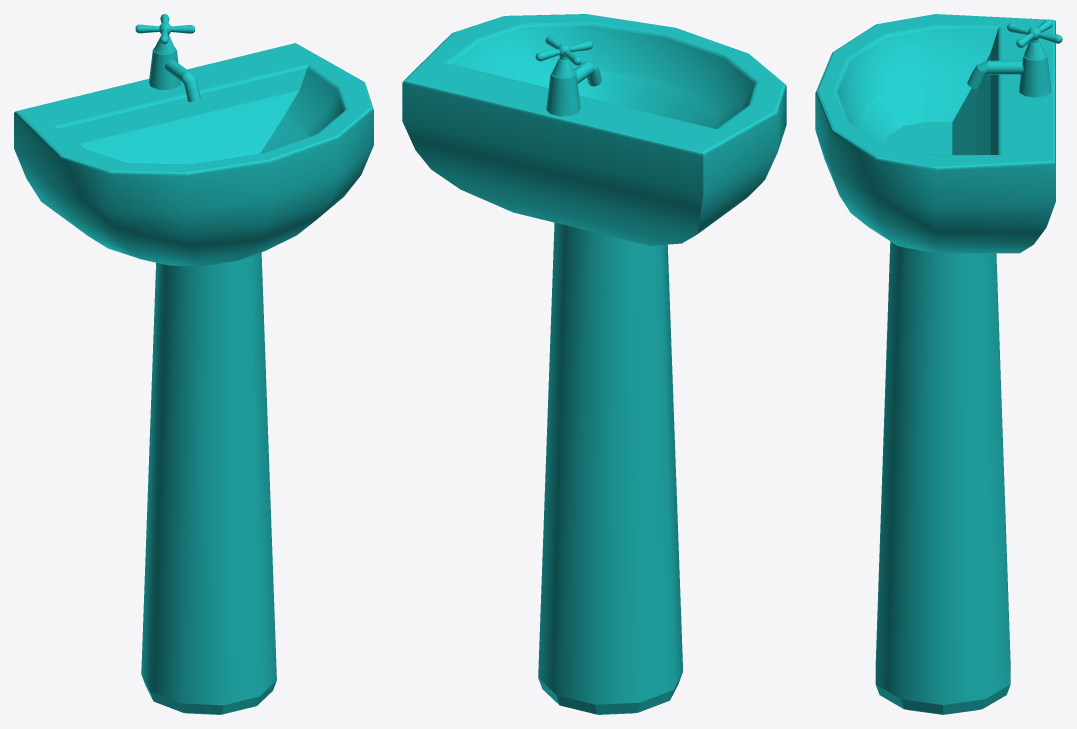
The model's file is Lavamanos.fbx.
3 renders of one model, left to right at view 1: azimuth 30°, elevation 25°; view 2: azimuth 150°, elevation 25°; view 3: azimuth 270°, elevation 25°, orthographic. The views are drawn at different scales.
Visible parts, largest first — view 1: Lavamanos; view 2: Lavamanos; view 3: Lavamanos.
Part boxes in pixels (x1,y1,x2,y2): Lavamanos: (14, 14, 373, 714); Lavamanos: (402, 14, 786, 714); Lavamanos: (815, 14, 1062, 714).
Bounding box in the file's own units: 0.6804 × 1.35 × 0.4581.
